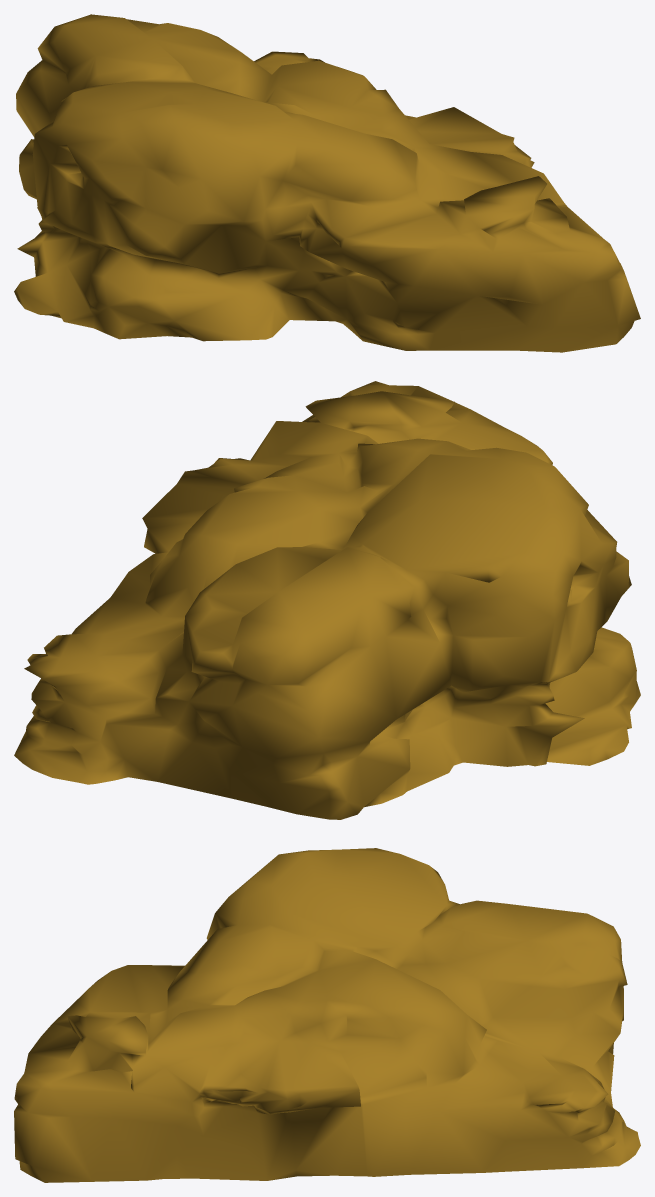
The model's file is Cliff_BigRock13.FBX.
3 views of the same model, one above another, from view 1: azimuth 30°, elevation 25°; view 2: azimuth 150°, elevation 25°; view 3: azimuth 270°, elevation 25° (orthographic). The views are drawn at different scales.
Visible parts, largest first — view 1: Cliff_BigRock13; view 2: Cliff_BigRock13; view 3: Cliff_BigRock13.
Boxes of the visible parts, x1,y1,x2,y2 form: Cliff_BigRock13: (14,14,640,352); Cliff_BigRock13: (14,381,640,819); Cliff_BigRock13: (14,848,640,1182).
Size of the model in its own units: 258 by 110 by 341.
